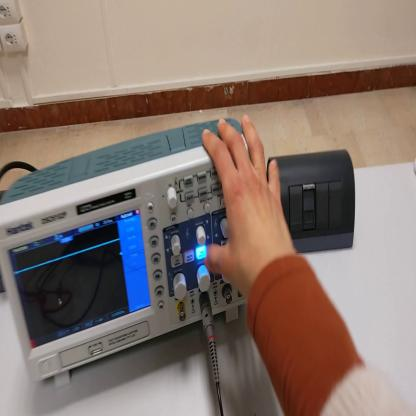hand: (200, 112, 293, 296)
oscilloscope: (2, 120, 249, 386)
